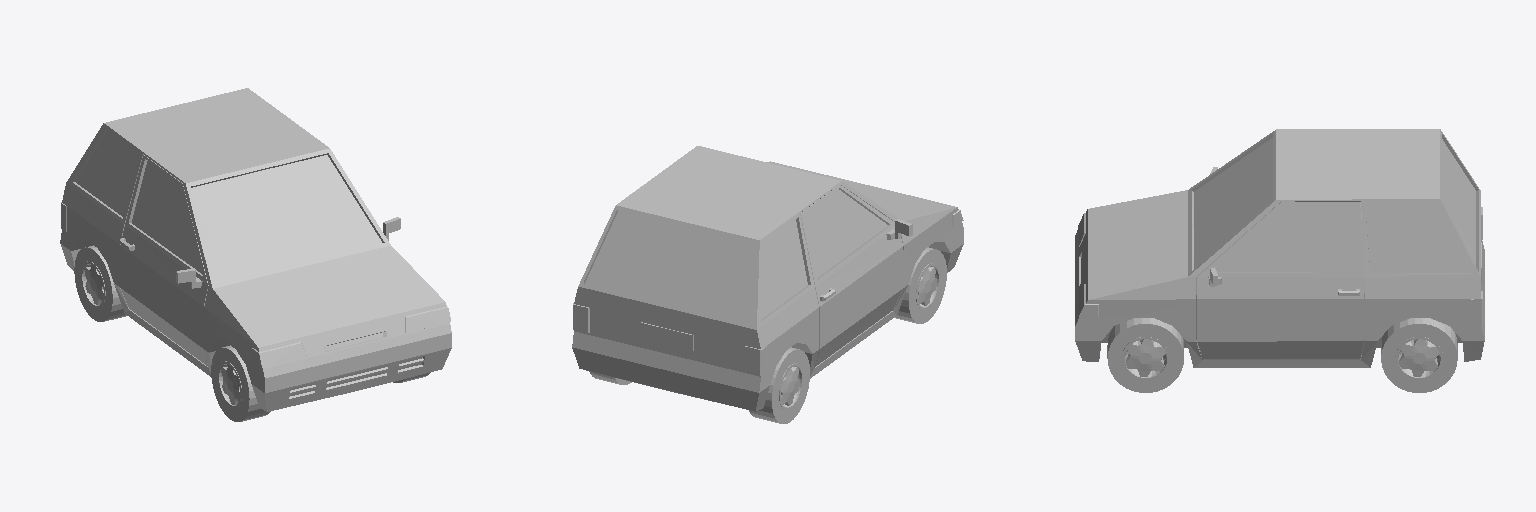
Rendered from car.obj.
3 views of the same model, side by side, from view 1: azimuth 30°, elevation 25°; view 2: azimuth 150°, elevation 25°; view 3: azimuth 270°, elevation 25° (orthographic).
Visible parts, largest first — view 1: car_body, windows, door_r, win_door_r.001, wheel_fr, wheel_br; view 2: car_body, windows, door_r, win_door_r.001, wheel_br, wheel_fr, free_number; view 3: car_body, door_l, windows, win_door_l.001, wheel_bl, wheel_fl.
Boxes of the visible parts, x1,y1,x2,y2 form: car_body: [60, 88, 451, 411]; windows: [76, 131, 381, 283]; door_r: [119, 155, 208, 365]; win_door_r.001: [132, 161, 201, 273]; wheel_fr: [211, 345, 270, 421]; wheel_br: [74, 245, 126, 321]; car_body: [572, 146, 963, 411]; windows: [585, 211, 807, 324]; door_r: [800, 185, 912, 366]; win_door_r.001: [804, 189, 887, 277]; wheel_br: [749, 347, 809, 423]; wheel_fr: [894, 247, 946, 323]; free_number: [641, 322, 693, 350]; car_body: [1075, 129, 1484, 367]; door_l: [1196, 202, 1364, 359]; windows: [1194, 138, 1475, 272]; win_door_l.001: [1215, 204, 1358, 272]; wheel_bl: [1381, 318, 1457, 392]; wheel_fl: [1107, 318, 1183, 392].
Size of the model in its own units: 2.18 by 1.71 by 3.46.